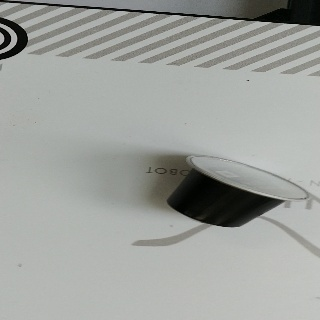capsule_10: (166, 153, 312, 228)
